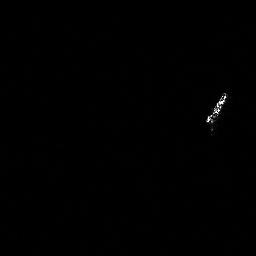ship: (204, 87, 229, 139)
